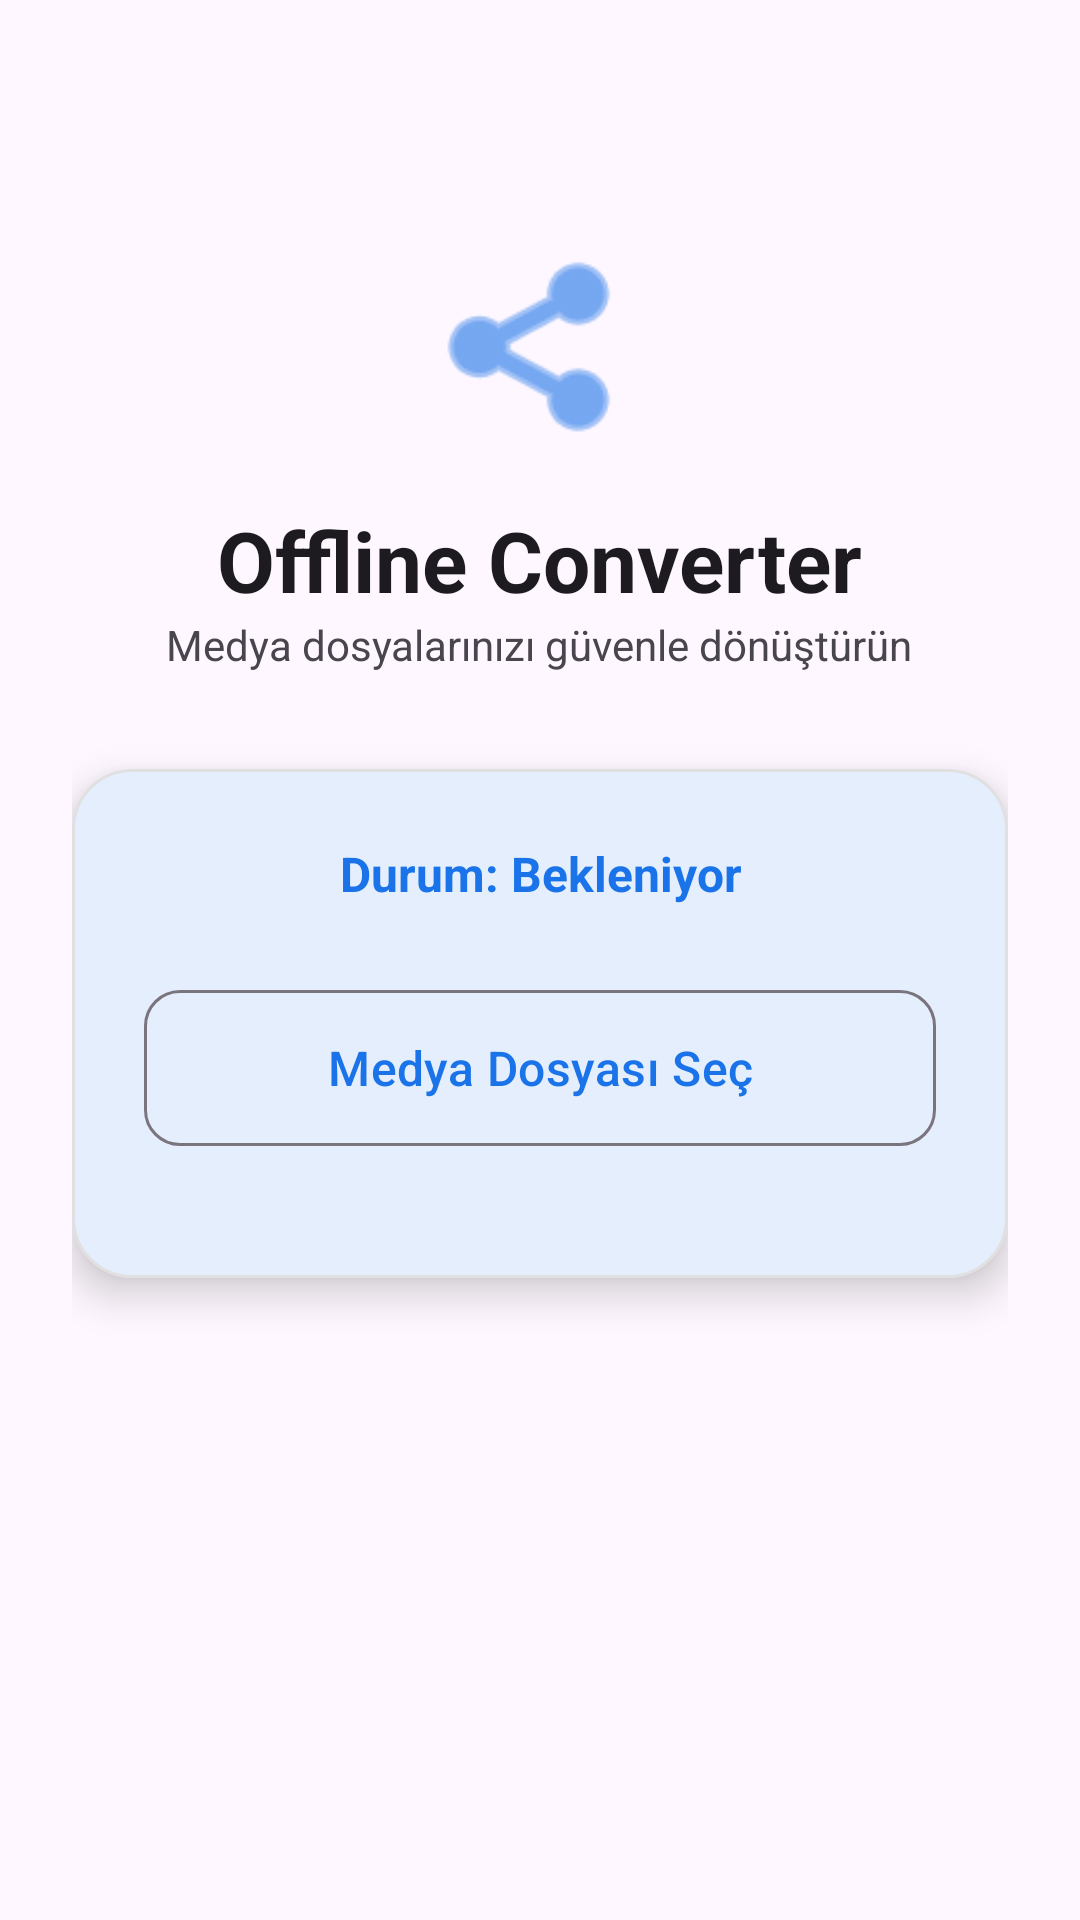

Point at icon controls on the screen. Image size 1080×1920, points as (x=x, y=y).
share: (x=529, y=347)
